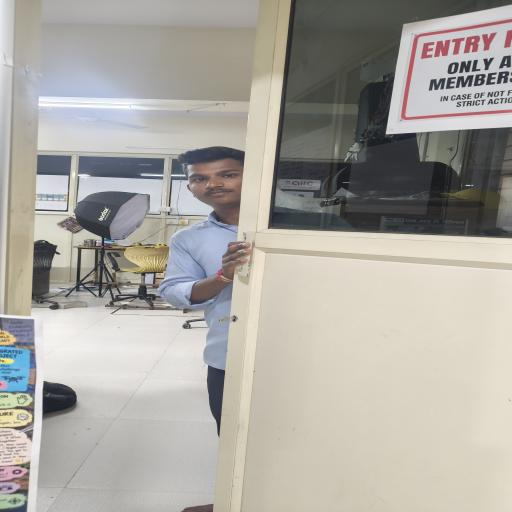survivor: (156, 146, 252, 438)
